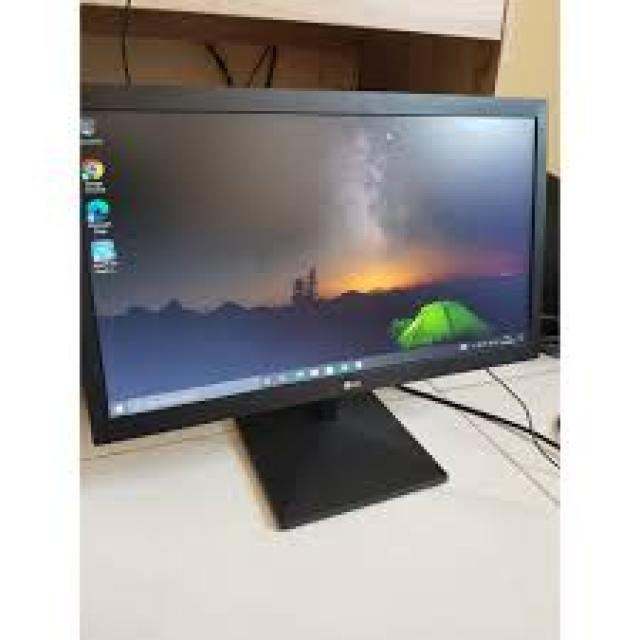monitor: (80, 75, 548, 539)
